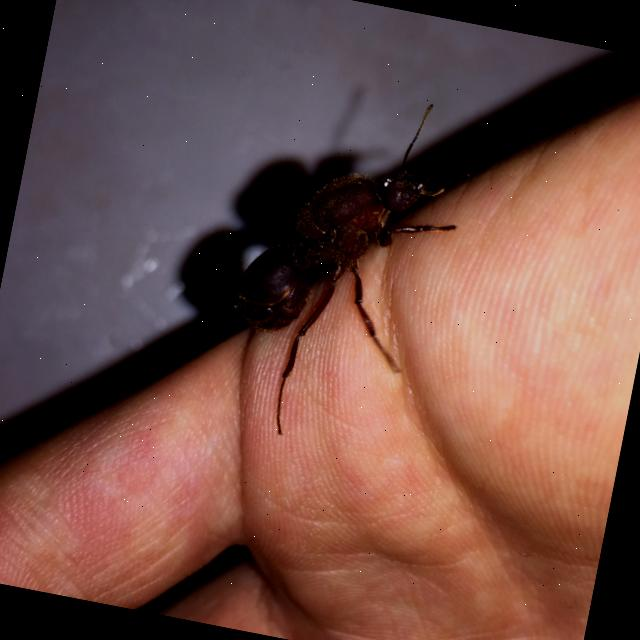Alive-Female-Dealate: (205, 72, 479, 462)
